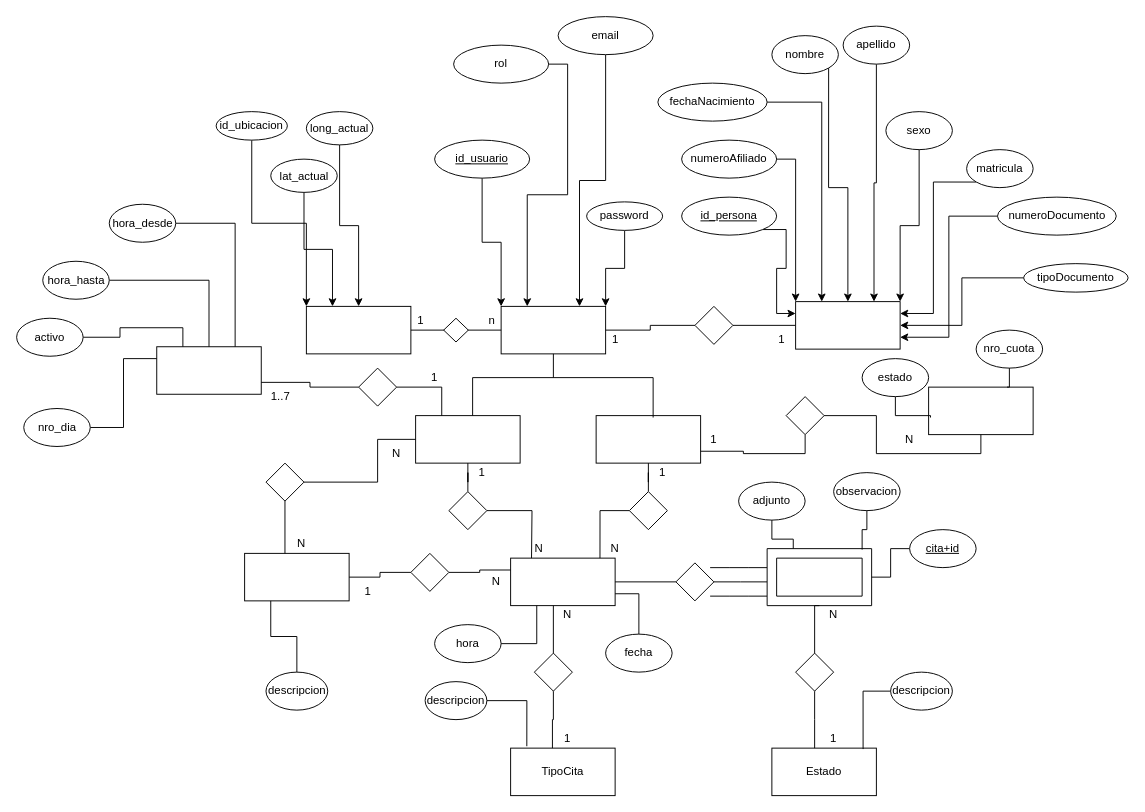
Image size: 1145x812. Some labels were removed from this diagram. Here are the shapes that lost their labels. From the top down, the box of each, then its label:
(305, 305, 411, 354): ubicacion
(500, 305, 606, 354): Usuario
(795, 301, 900, 349): Persona
(156, 346, 261, 394): Agenda
(928, 386, 1033, 435): Cuota
(415, 415, 520, 463): Medico
(595, 415, 701, 463): Paciente
(244, 552, 349, 601): Especialidad
(510, 557, 615, 606): Cita
(766, 548, 872, 606): CitaHistoria
